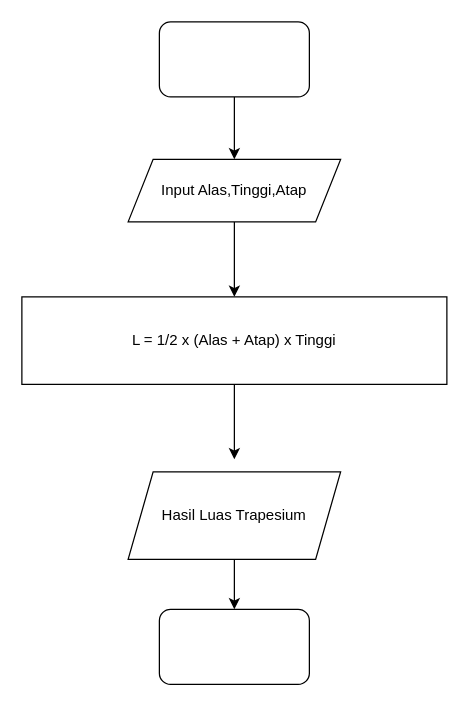
Image size: 469x706. Some labels were removed from this diagram. Here are the shapes that lost their labels. From the top down, the centre of each, then its label:
point 233,59: Mulai
point 233,646: End
